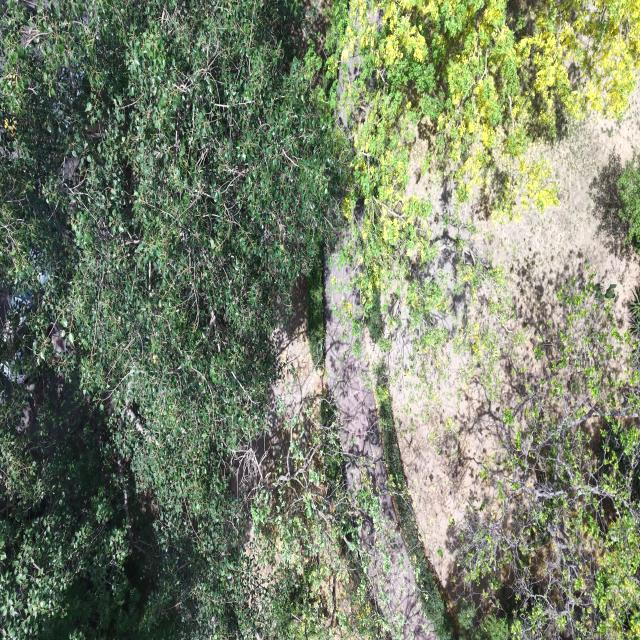DRY_AREA: (368, 91, 639, 598), (370, 90, 639, 596), (380, 91, 639, 594), (230, 279, 437, 639), (323, 243, 436, 639), (229, 278, 338, 519), (229, 277, 322, 504), (231, 277, 323, 497), (267, 278, 322, 432)
PATHWAYS: (324, 251, 436, 639)
VEGETATION_TREE: (0, 0, 639, 639), (0, 0, 344, 637), (326, 0, 639, 366), (325, 0, 639, 299), (330, 0, 639, 212), (457, 279, 639, 638), (0, 370, 175, 638), (234, 397, 382, 638), (373, 362, 456, 638), (589, 152, 639, 256), (616, 155, 639, 248), (306, 265, 323, 367), (628, 286, 640, 336)
